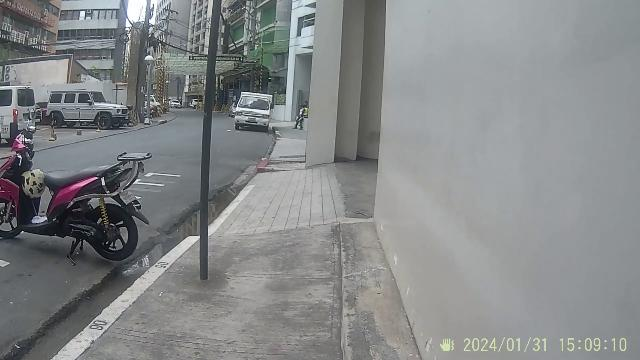lamp_post: (142, 53, 156, 127)
motorcycle: (0, 122, 140, 258)
utility_post: (194, 1, 222, 278)
